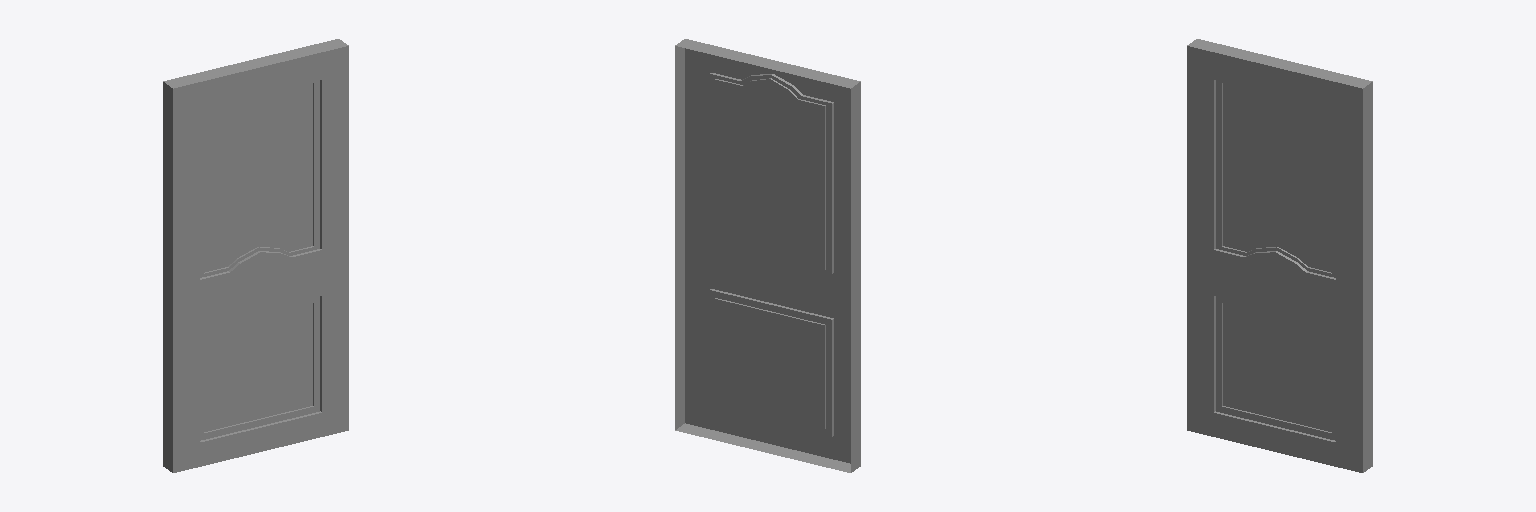
File: Door3.obj
The picture shows the model from 3 angles: view 1: azimuth 30°, elevation 25°; view 2: azimuth 150°, elevation 25°; view 3: azimuth 330°, elevation 25°; orthographic projection.
Visible parts, largest first — view 1: Door3_Cube.045; view 2: Door3_Cube.045; view 3: Door3_Cube.045.
Part boxes in pixels (x1,y1,x2,y2): Door3_Cube.045: (163,39,348,472); Door3_Cube.045: (675,39,860,472); Door3_Cube.045: (1187,39,1372,472).
Bounding box in the file's own units: 0.4386 × 0.9169 × 0.0429.